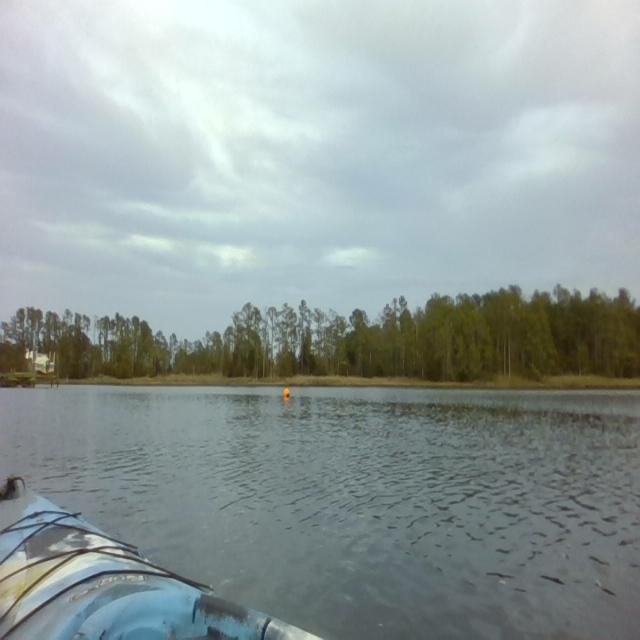Buoy: (282, 385, 291, 400)
